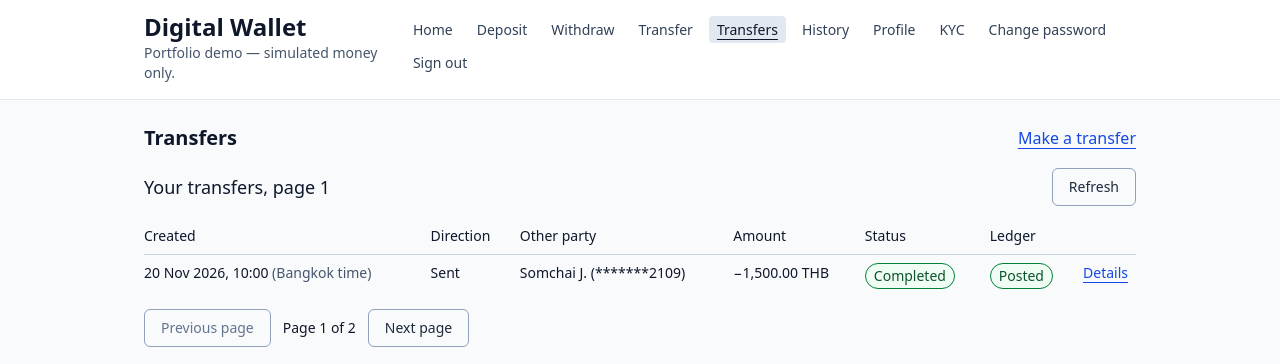
Test case: Transfers list › pages forward and back through ?page= and asks the server for the 0-based page
The image size is (1280, 364).
Expected: the text "Page 1 of 2" is shown, top-left (283, 318), bottom-right (356, 338)
Expected: the button "Previous page" is disabled, top-left (144, 309), bottom-right (271, 347)
Click the button "Next page" at (418, 328), box top-left (368, 309), bottom-right (469, 347)
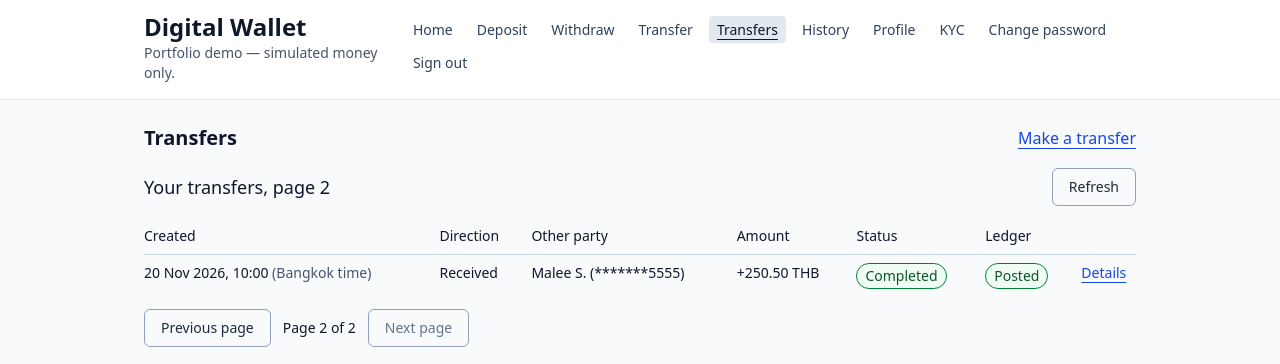
Expected: the text "+250.50 THB" is shown, top-left (737, 255), bottom-right (856, 297)
Expected: the text "Page 2 of 2" is shown, top-left (283, 318), bottom-right (356, 338)
Expected: the button "Next page" is disabled, top-left (368, 309), bottom-right (469, 347)
Click the button "Previous page" at (207, 328), box top-left (144, 309), bottom-right (271, 347)
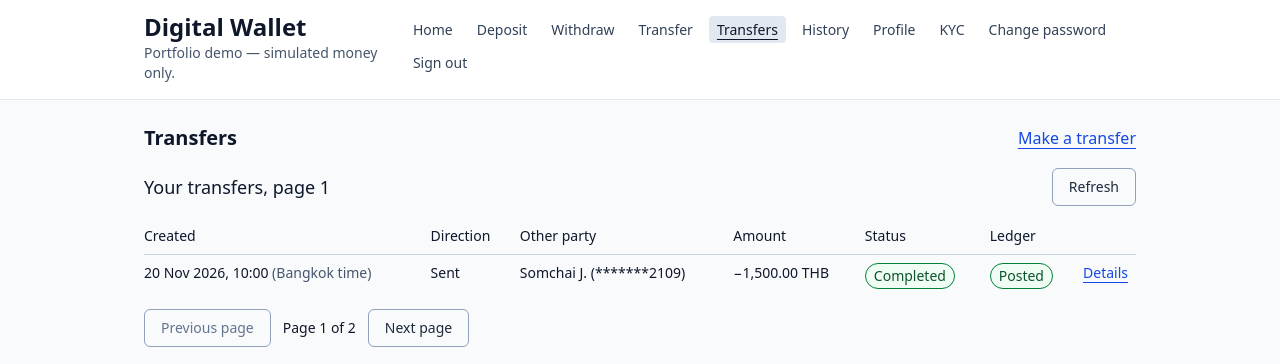
Expected: the text "−1,500.00 THB" is shown, top-left (733, 255), bottom-right (865, 297)
